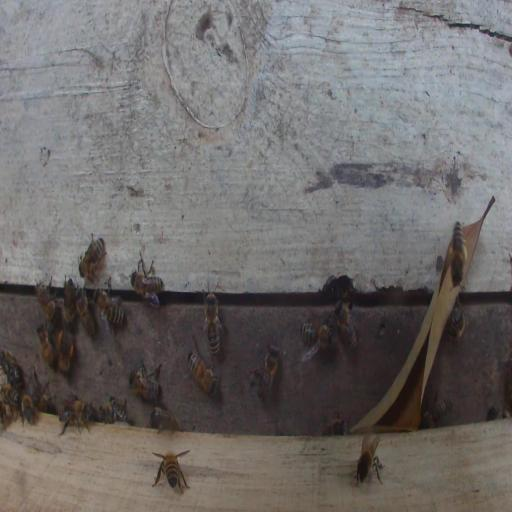bee: (130, 253, 164, 309), (249, 342, 280, 402), (201, 281, 224, 357), (153, 449, 190, 494), (355, 433, 384, 486), (187, 350, 219, 397), (94, 279, 125, 327), (58, 397, 93, 435), (78, 233, 105, 282), (129, 363, 162, 402), (334, 300, 358, 352), (448, 223, 467, 283), (75, 286, 96, 338), (35, 280, 58, 324), (444, 299, 467, 341), (1, 347, 23, 389), (300, 321, 333, 348), (36, 323, 55, 367), (149, 407, 181, 433), (1, 384, 22, 422), (423, 398, 448, 428), (58, 328, 74, 373), (104, 395, 128, 422), (63, 278, 75, 328), (21, 393, 38, 427), (323, 415, 349, 435), (36, 393, 54, 414), (77, 285, 77, 288), (35, 402, 35, 403)
